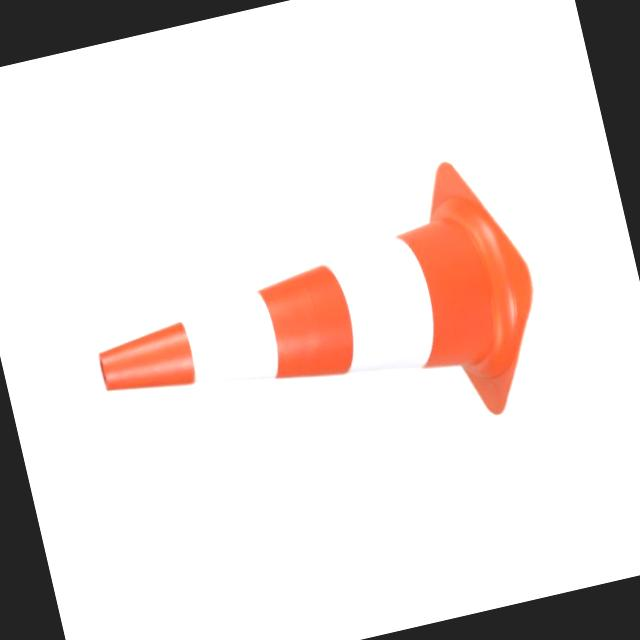cone: (51, 137, 555, 506)
